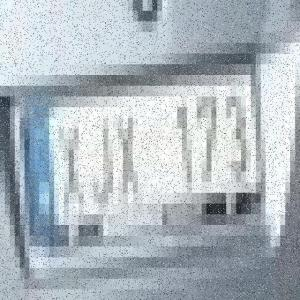Plate: (11, 55, 280, 246)
